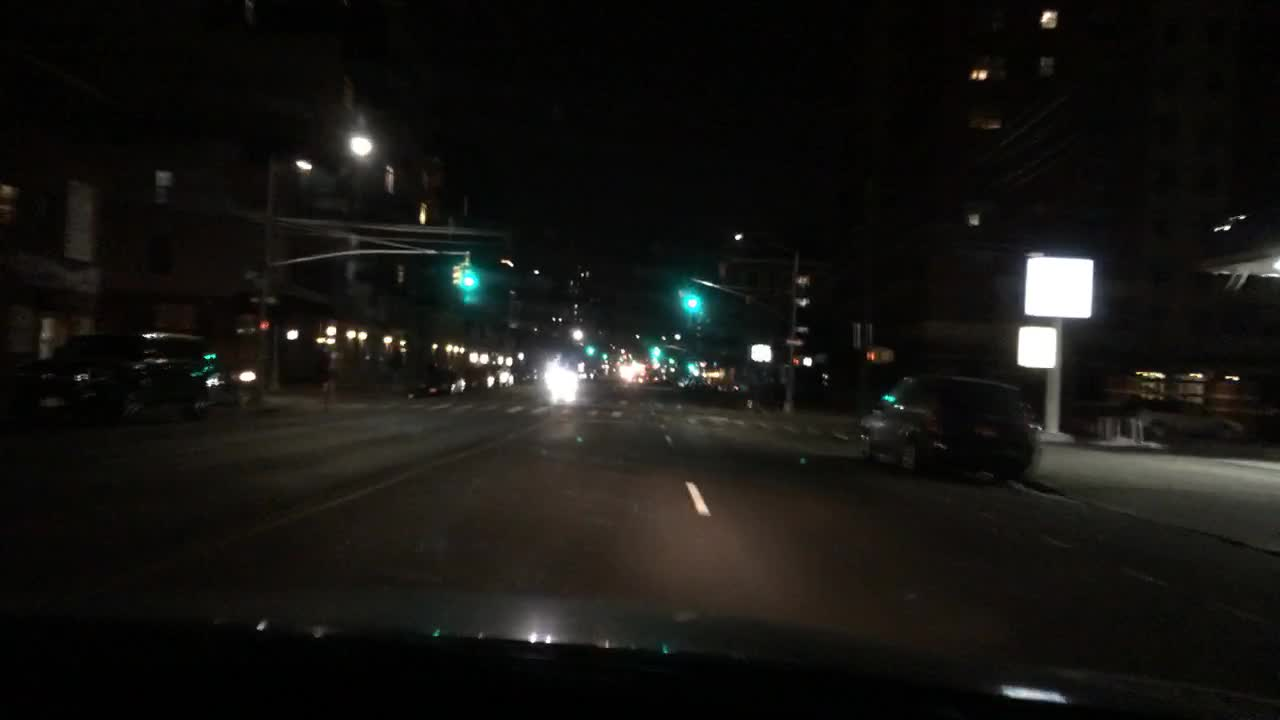car: (856, 372, 1036, 480), (29, 339, 215, 422), (1138, 396, 1245, 438), (395, 364, 470, 399), (474, 368, 495, 389), (521, 367, 544, 384), (574, 367, 598, 382), (642, 370, 663, 384), (497, 367, 514, 384), (628, 370, 646, 386)
traffic light: (681, 287, 700, 317), (463, 264, 476, 297), (448, 265, 463, 291), (646, 348, 663, 368), (685, 358, 701, 375), (584, 341, 595, 363), (790, 353, 804, 368)
traffic sign: (780, 333, 802, 346), (789, 324, 813, 335)
